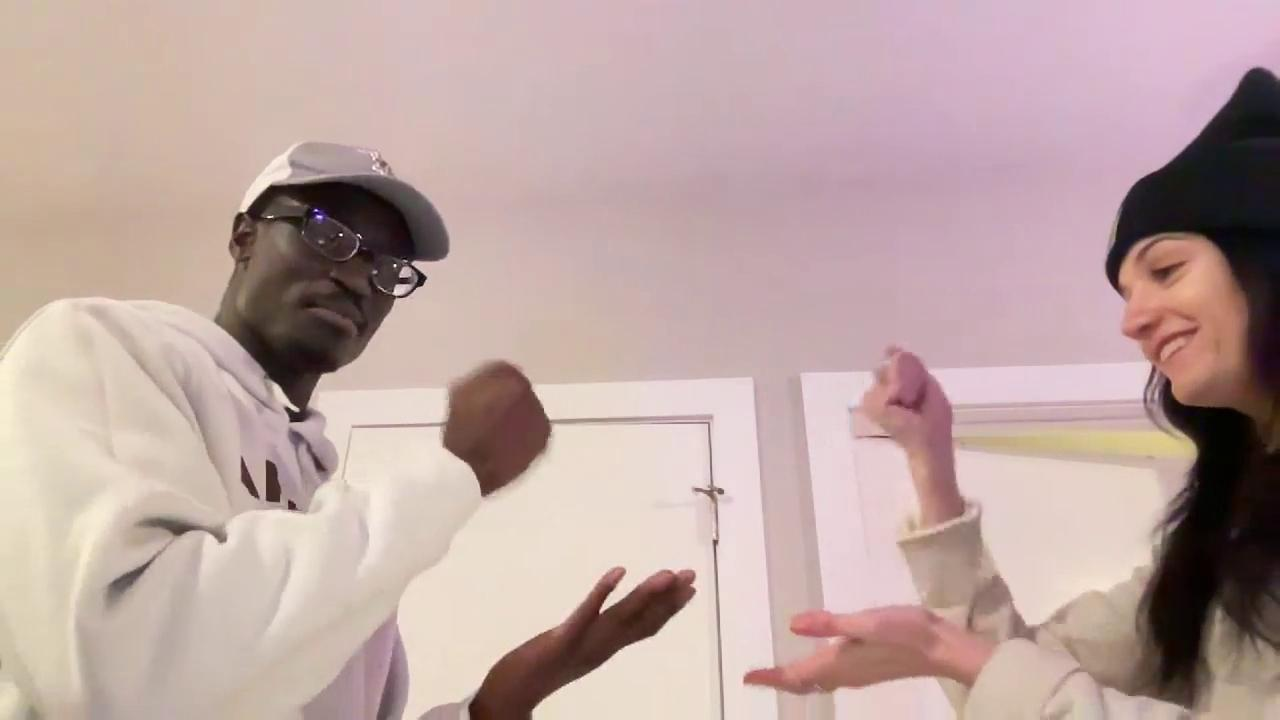Rock: (442, 357, 554, 489), (863, 345, 954, 455)
